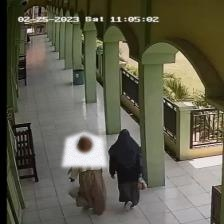Mukena: (62, 132, 106, 166)
